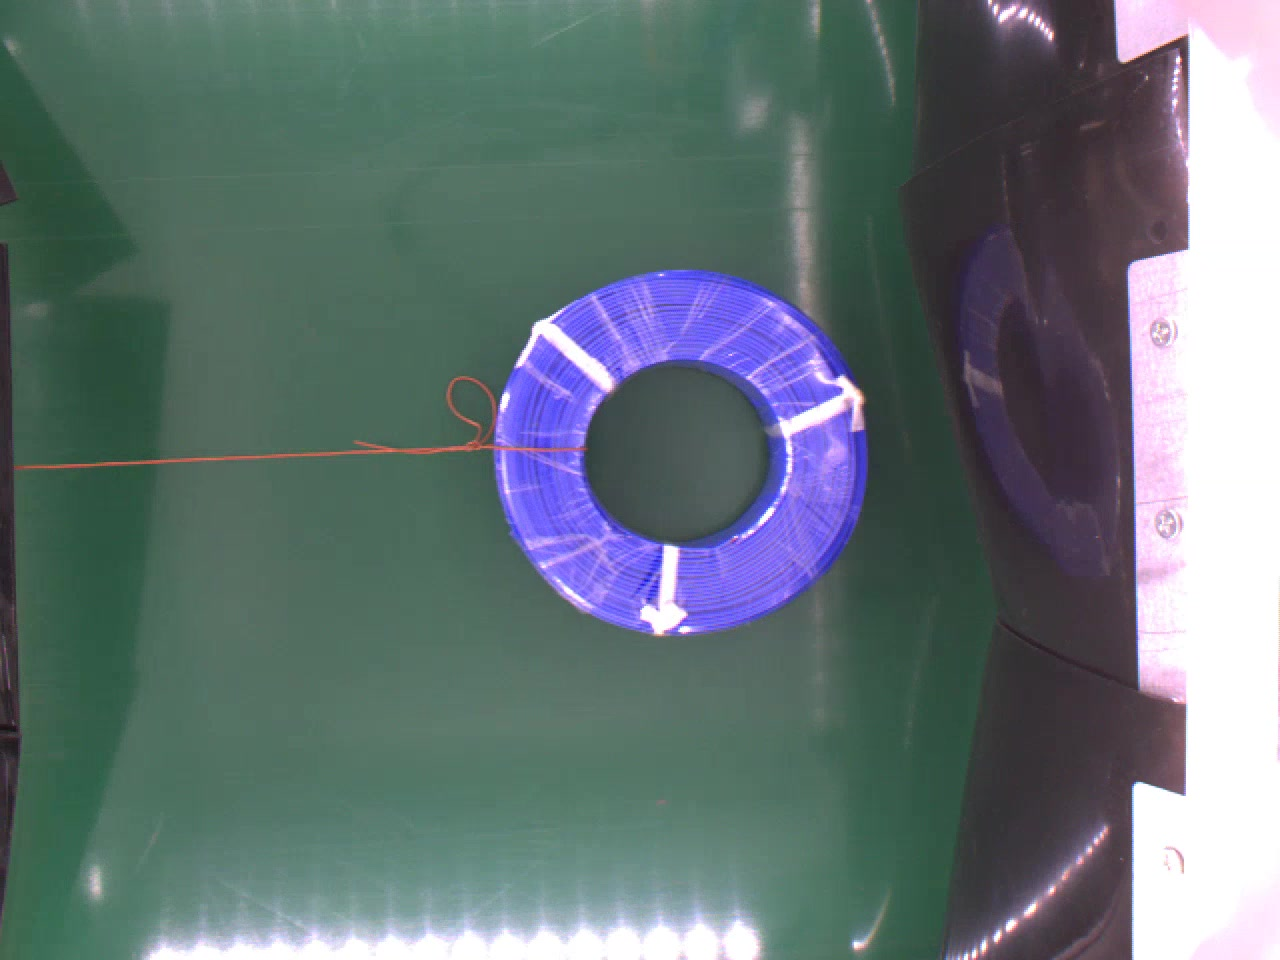blue: (489, 265, 869, 635)
